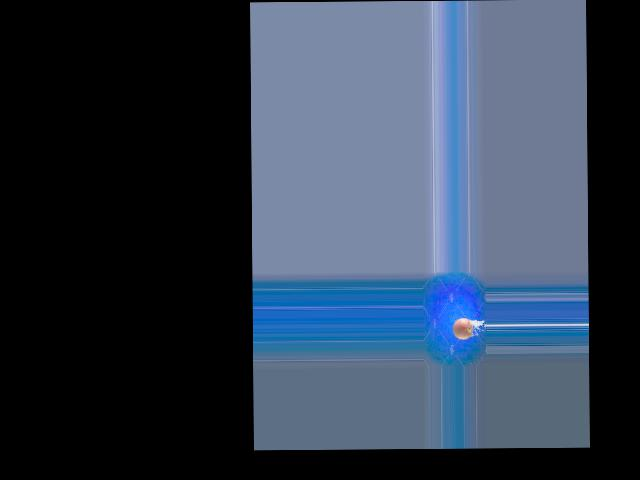tomato: (453, 318, 472, 340)
